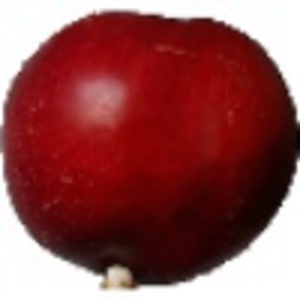nectarina: (1, 9, 300, 300)
